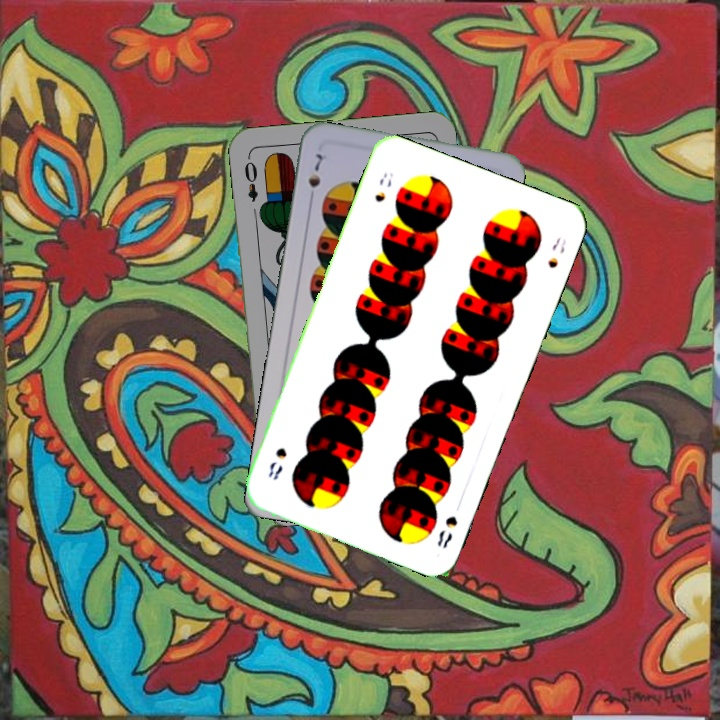EO: (240, 152, 260, 204)
S7: (304, 149, 325, 205)
S8: (432, 511, 460, 551), (371, 168, 396, 205)
